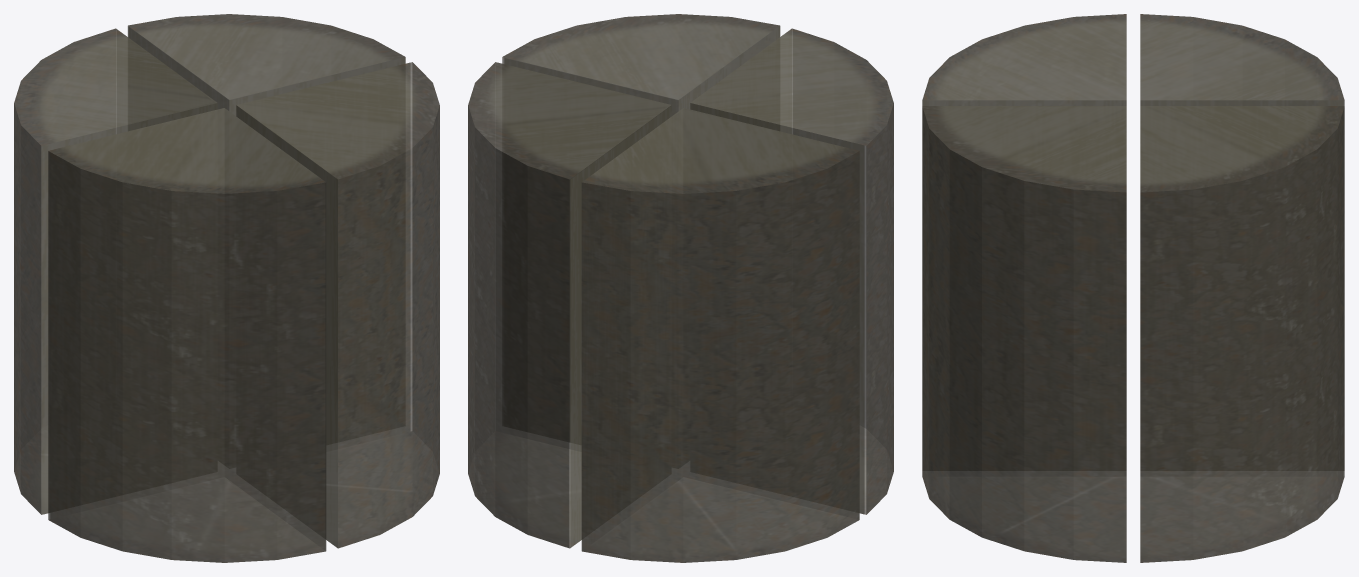
File: WoodenLogs.fbx
The picture shows the model from 3 angles, left to right: view 1: azimuth 30°, elevation 25°; view 2: azimuth 150°, elevation 25°; view 3: azimuth 270°, elevation 25°; orthographic projection.
Visible parts, largest first — view 1: Log.003, Log.002, Log.000, Log.001; view 2: Log.000, Log.001, Log.003, Log.002; view 3: Log.001, Log.002, Log.000, Log.003.
Boxes of the visible parts, bbox=[...] form: Log.003: bbox=[48, 108, 326, 562]; Log.002: bbox=[236, 62, 439, 548]; Log.000: bbox=[14, 28, 217, 514]; Log.001: bbox=[128, 14, 405, 116]; Log.000: bbox=[581, 108, 859, 562]; Log.001: bbox=[468, 62, 671, 548]; Log.003: bbox=[690, 28, 893, 514]; Log.002: bbox=[502, 14, 780, 441]; Log.001: bbox=[1140, 106, 1344, 562]; Log.002: bbox=[922, 106, 1126, 562]; Log.000: bbox=[1140, 14, 1344, 106]; Log.003: bbox=[922, 14, 1126, 105].
Size of the model in its own units: 62 by 60 by 62.
